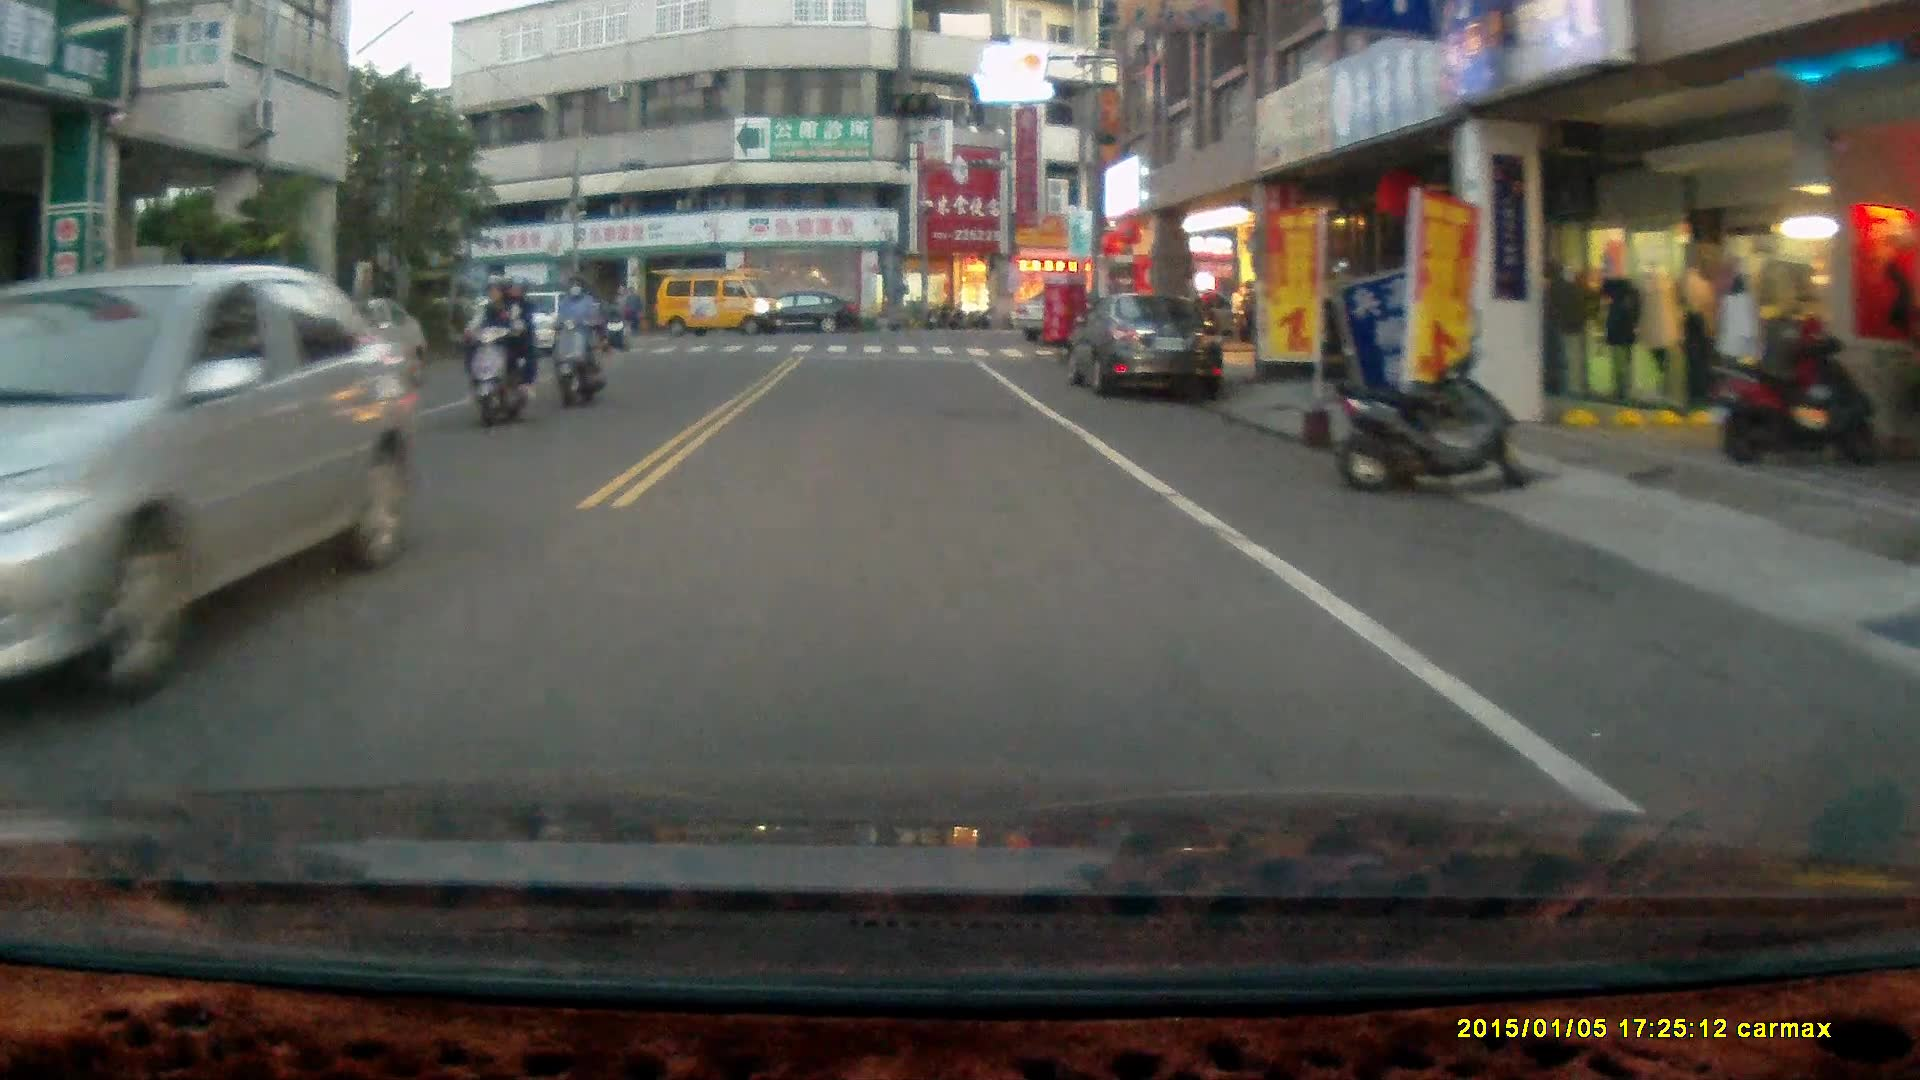rider: (459, 273, 538, 432), (550, 273, 605, 411)
vehicle: (37, 267, 403, 715), (1060, 286, 1233, 411), (651, 265, 789, 337), (745, 291, 860, 337)
